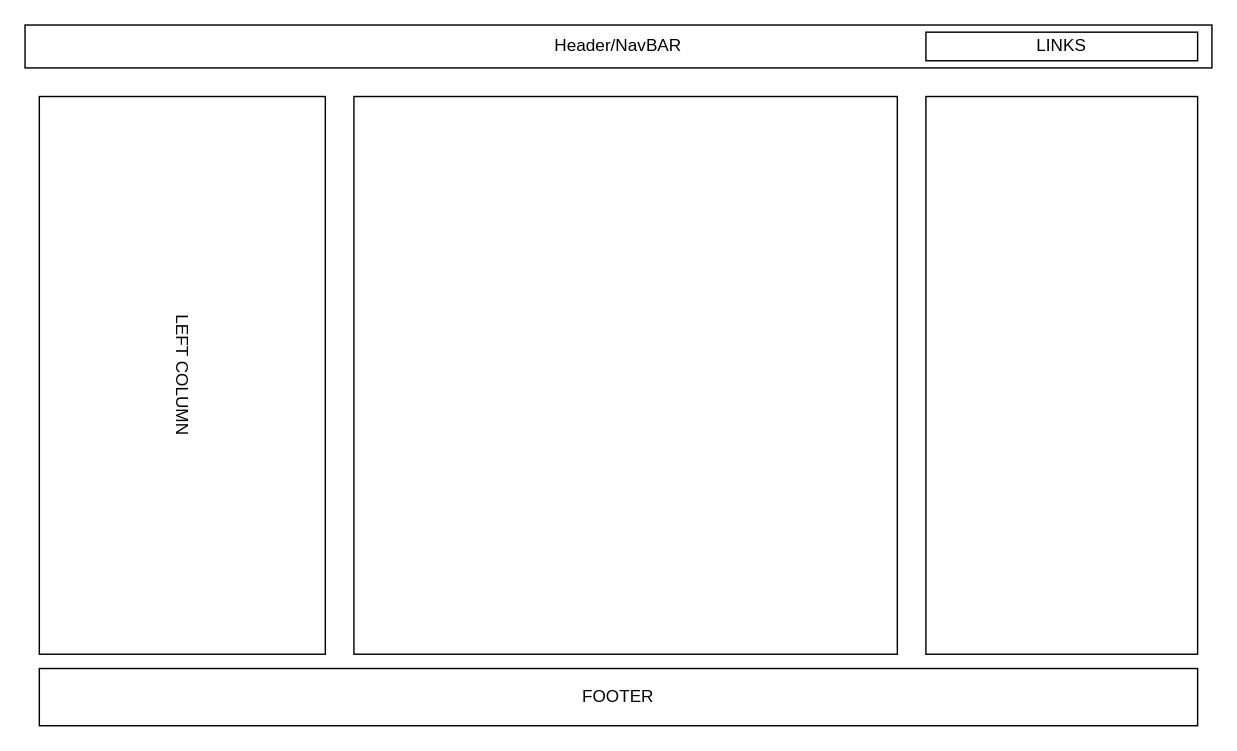
The diagram is 1237 pixels wide and 751 high, and some of its shapes have lost their labels. The box of each missing label's shape, as (x1, y1, x2, y2) in pixels:
MAIN VIEW: (352, 95, 897, 654)
RIGHT COLUMN: (924, 95, 1198, 654)
